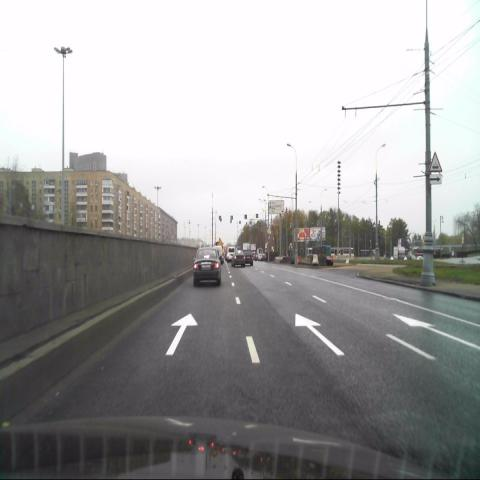1_5: (429, 151, 443, 172)
